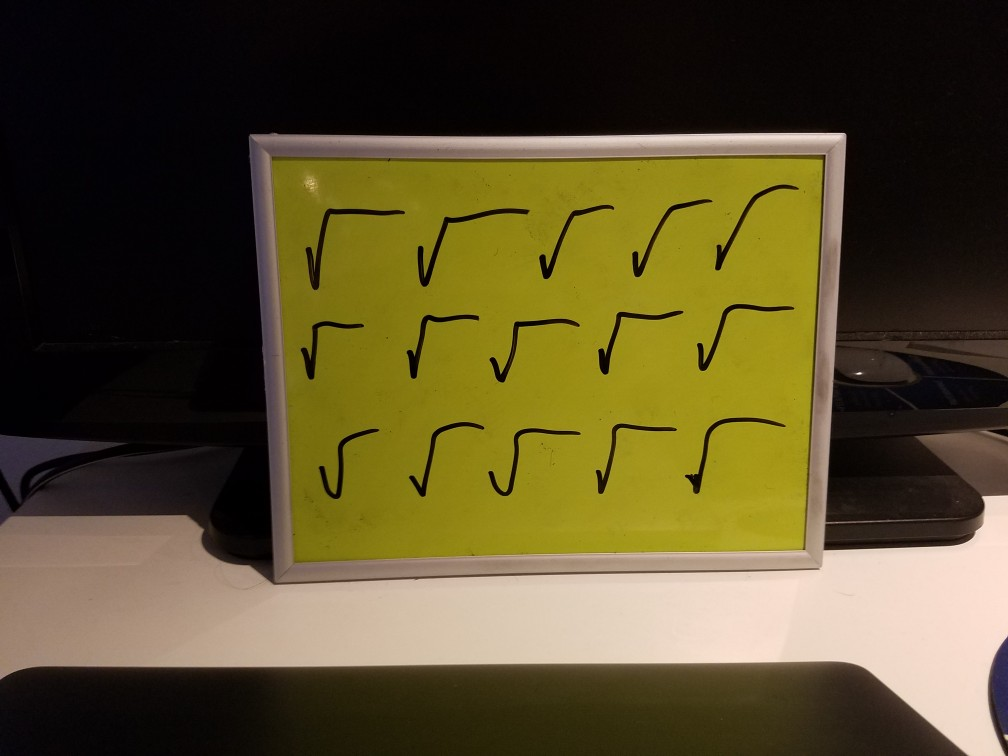sqrt: (683, 406, 798, 509), (416, 193, 534, 292), (297, 191, 404, 299), (695, 295, 800, 395), (713, 174, 798, 297), (487, 412, 582, 512), (488, 304, 585, 397), (591, 305, 693, 391), (529, 188, 617, 283), (591, 413, 679, 507), (395, 300, 488, 385), (629, 187, 713, 277), (405, 413, 488, 501), (305, 416, 383, 505), (297, 307, 368, 391)
